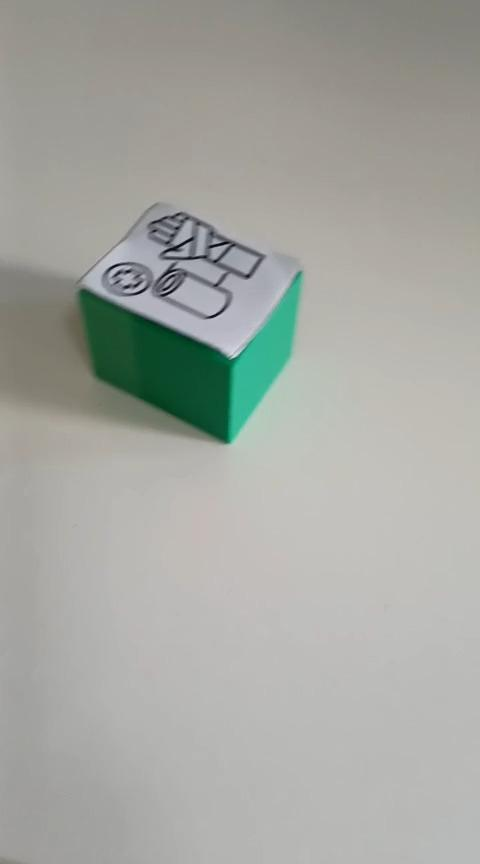Bandages: (74, 200, 304, 444)
